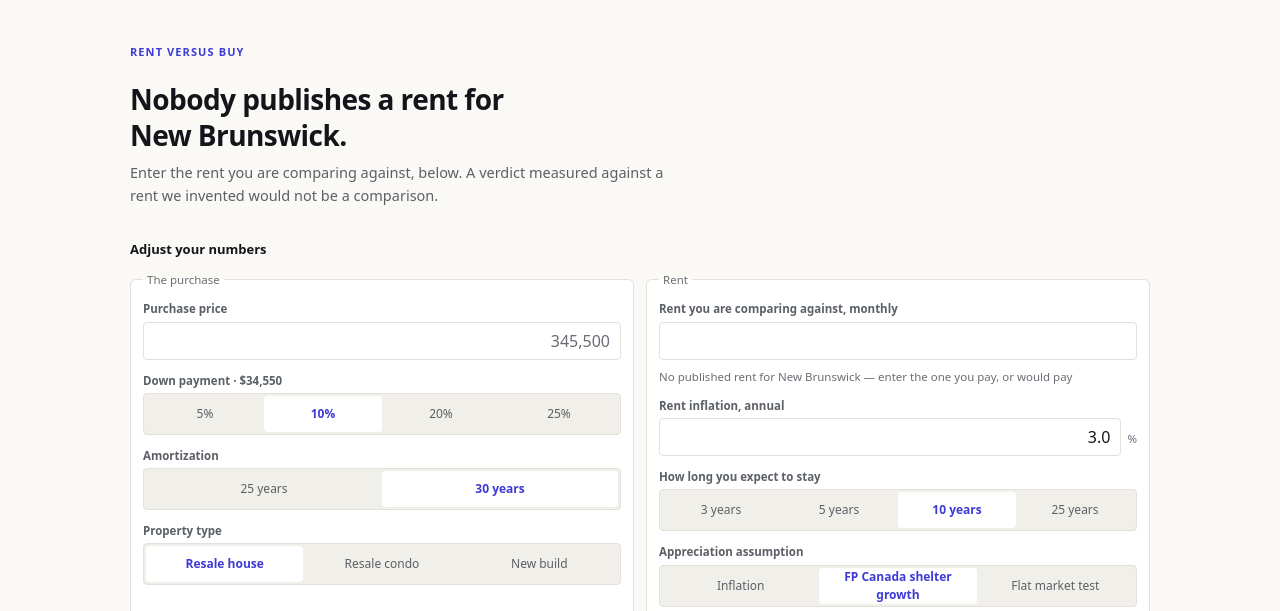
Rent vs buy — it will not compare against a rent nobody published › compares in full once the reader gives their own rent
The image size is (1280, 611).
In the field labelled "Rent you are comparing against, monthly": (898, 341) [659,322,1137,360], type "1650"
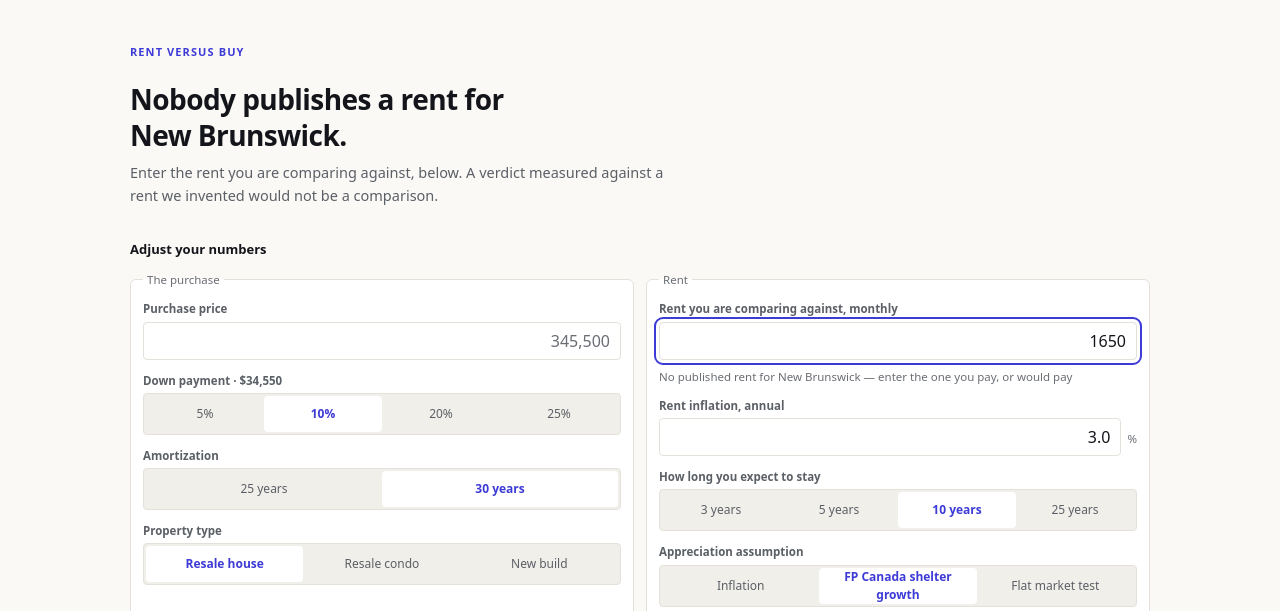
Press Tab
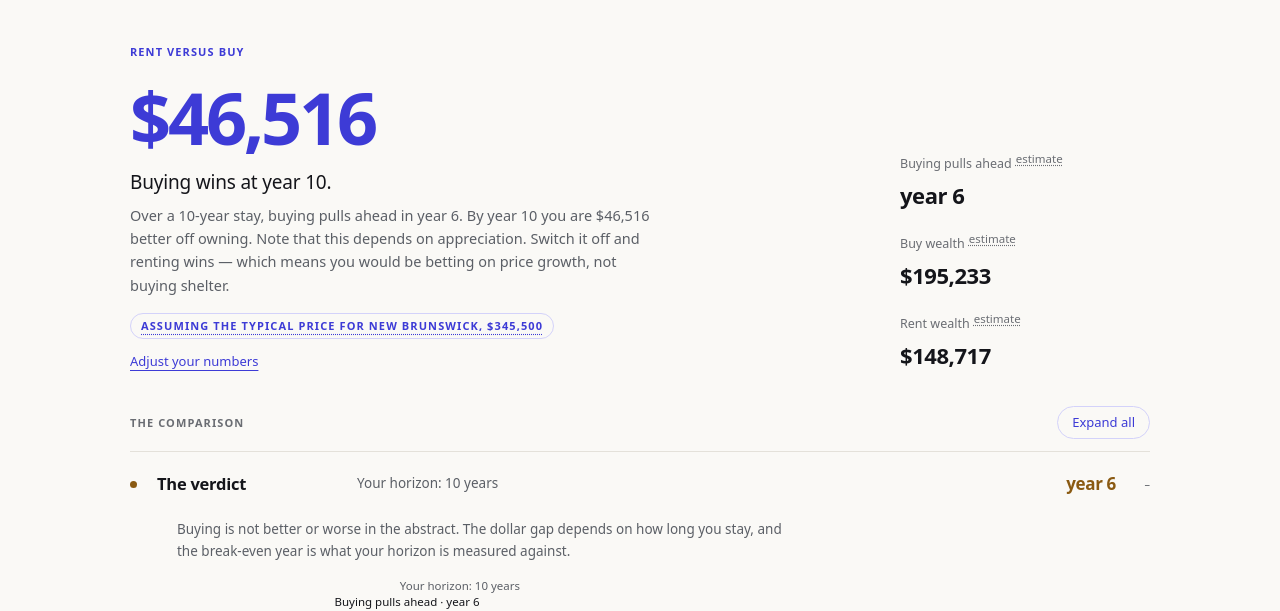
Now the text "Buying wins at year 10." is shown, box [130,168,332,194]
Now the text "Nobody publishes a rent" is gone
